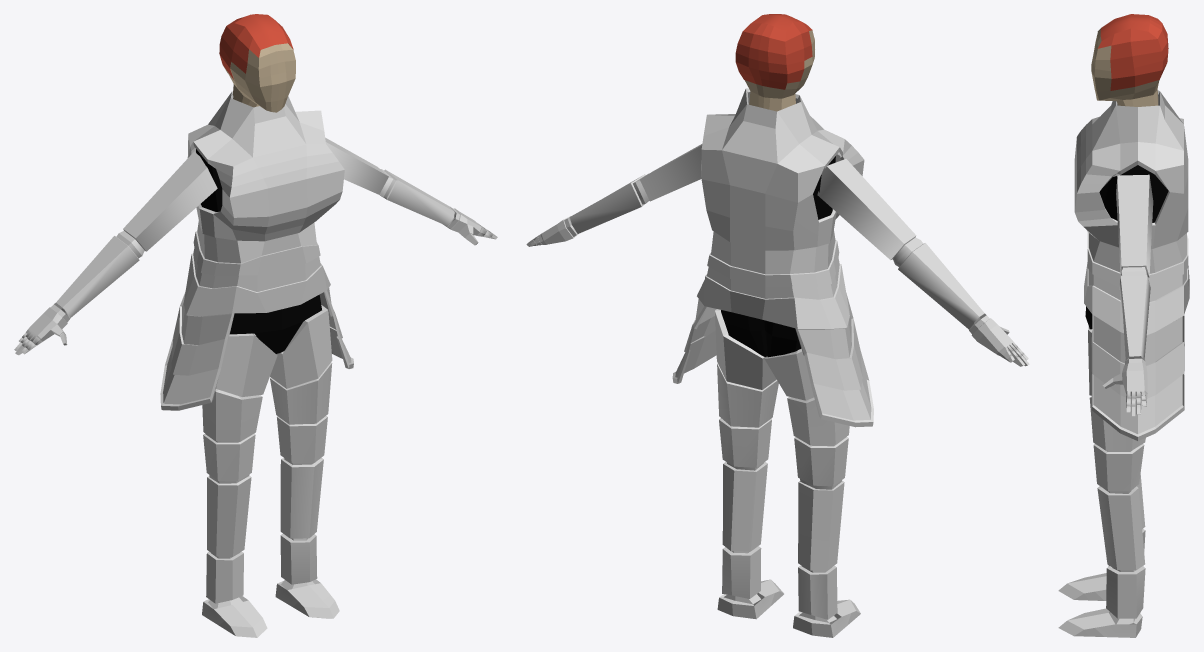
Rendered from soldadoGame1.fbx.
3 views of the same model, side by side, from view 1: azimuth 30°, elevation 25°; view 2: azimuth 150°, elevation 25°; view 3: azimuth 270°, elevation 25° (orthographic). The views are drawn at different scales.
Parts seen in each view (by area): view 1: Peitoral, Perneiras, BracoD, Cabeca, BracoE, Cintura; view 2: Peitoral, Perneiras, BracoD, Cabeca, BracoE, Cintura; view 3: Peitoral, Perneiras, BracoE, Cabeca, OmbroD.
Part boxes in pixels (x1=…): Peitoral: x1=160, y1=91, x2=353, y2=410; Perneiras: x1=202, y1=305, x2=339, y2=637; BracoD: x1=14, y1=151, x2=217, y2=355; Cabeca: x1=219, y1=14, x2=295, y2=112; BracoE: x1=325, y1=137, x2=497, y2=245; Cintura: x1=230, y1=294, x2=321, y2=353; Peitoral: x1=672, y1=88, x2=873, y2=427; Perneiras: x1=715, y1=309, x2=860, y2=637; BracoD: x1=817, y1=159, x2=1029, y2=366; Cabeca: x1=735, y1=14, x2=814, y2=111; BracoE: x1=526, y1=144, x2=702, y2=246; Cintura: x1=721, y1=310, x2=801, y2=357; Peitoral: x1=1074, y1=90, x2=1189, y2=440; Perneiras: x1=1058, y1=326, x2=1145, y2=637; BracoE: x1=1102, y1=174, x2=1153, y2=416; Cabeca: x1=1091, y1=14, x2=1168, y2=106; OmbroD: x1=1099, y1=165, x2=1168, y2=222.
Bounding box in the file's own units: 25.31 × 5.9 × 29.38.
